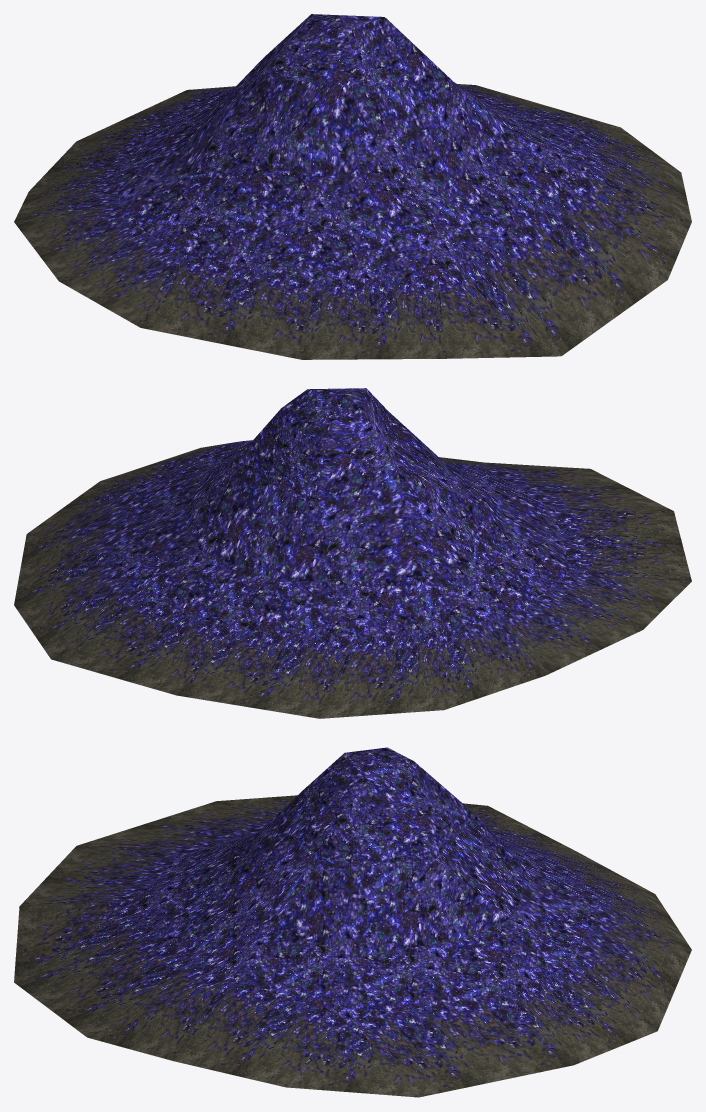
File: OM_OREHEAP_SMALL_01.glb
The picture shows the model from 3 angles, top to bottom: view 1: azimuth 30°, elevation 25°; view 2: azimuth 150°, elevation 25°; view 3: azimuth 270°, elevation 25°; orthographic projection. The views are drawn at different scales.
Visible parts, largest first — view 1: Mesh; view 2: Mesh; view 3: Mesh.
Boxes of the visible parts, x1=… form: Mesh: x1=14, y1=14, x2=691, y2=359; Mesh: x1=14, y1=388, x2=691, y2=718; Mesh: x1=14, y1=747, x2=691, y2=1097.
Bounding box in the file's own units: 5.81 × 1.99 × 5.82.
2 materials, 2 textured.
